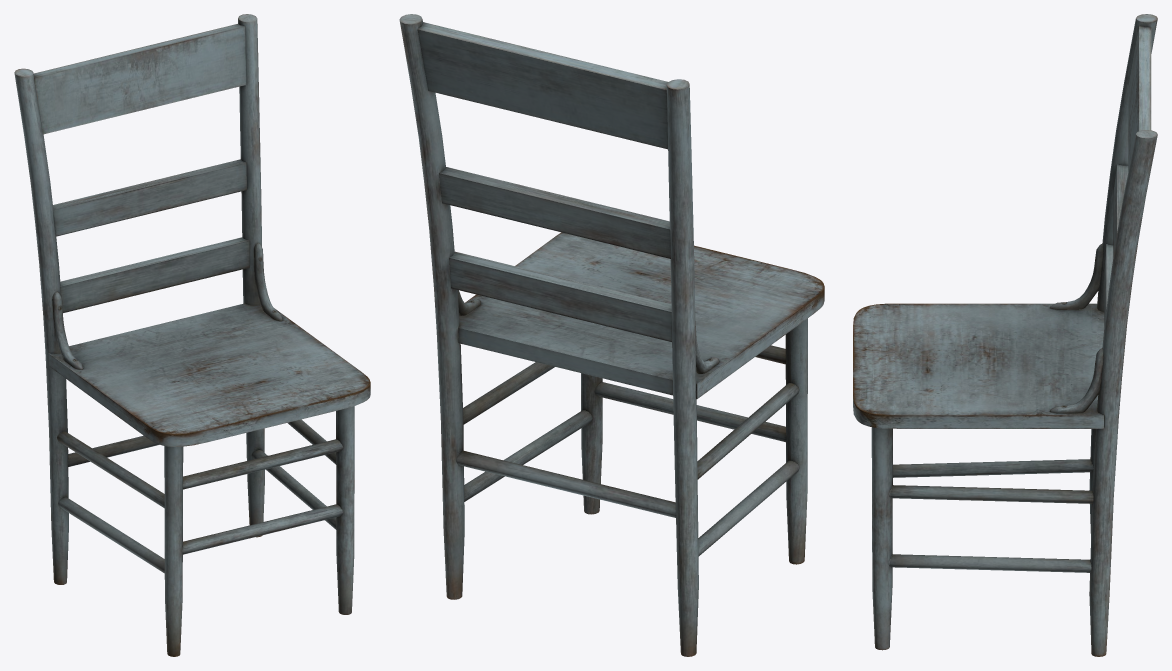
The model's file is chair-ladder-back.glb.
3 views of the same model, side by side, from view 1: azimuth 30°, elevation 25°; view 2: azimuth 150°, elevation 25°; view 3: azimuth 270°, elevation 25° (orthographic). The views are drawn at different scales.
Parts seen in each view (by area): view 1: chair-ladder-back; view 2: chair-ladder-back; view 3: chair-ladder-back.
Boxes of the visible parts, box(x1,y1,x2,y2) form: chair-ladder-back: box(14, 14, 370, 656); chair-ladder-back: box(399, 14, 824, 656); chair-ladder-back: box(853, 14, 1157, 656).
Bounding box in the file's own units: 0.6394 × 1.26 × 0.6621.
1 material, 1 textured.
